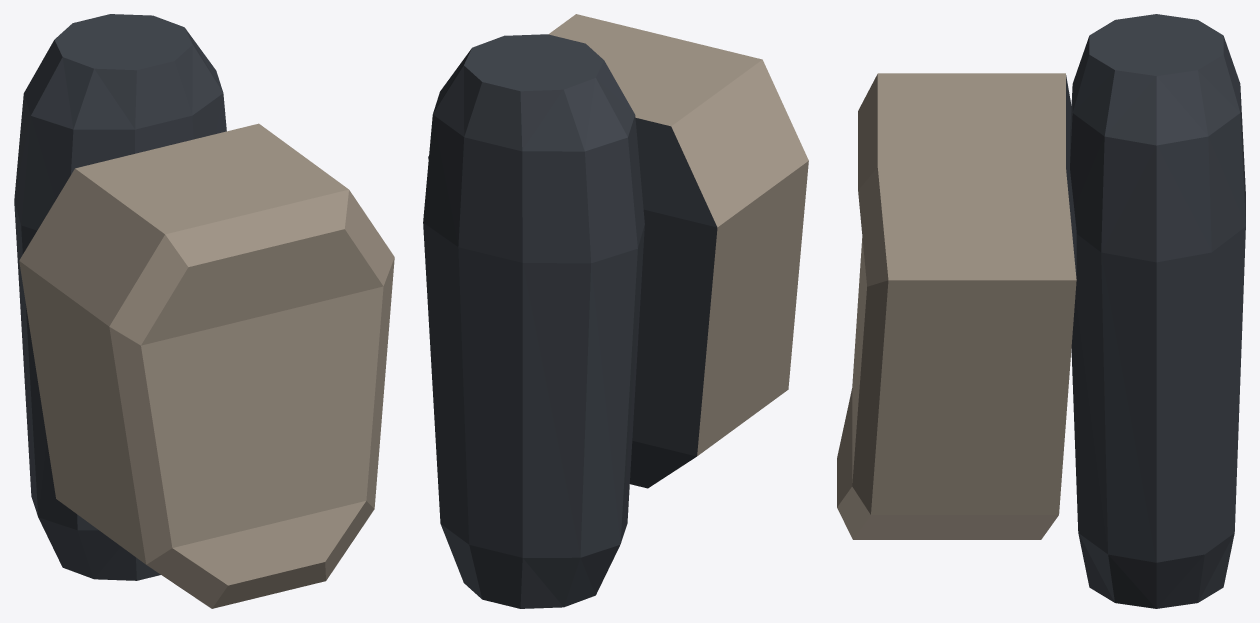
Rendered from thigh_light.glb.
The picture shows the model from 3 angles, left to right: view 1: azimuth 30°, elevation 25°; view 2: azimuth 150°, elevation 25°; view 3: azimuth 270°, elevation 25°; orthographic projection. The views are drawn at different scales.
Visible parts, largest first — view 1: thigh_light; view 2: thigh_light; view 3: thigh_light.
Boxes of the visible parts, <box> form: thigh_light: <box>14,14,394,608</box>; thigh_light: <box>423,14,808,608</box>; thigh_light: <box>837,14,1245,608</box>.
Bounding box in the file's own units: 0.585 × 1 × 0.6956.
